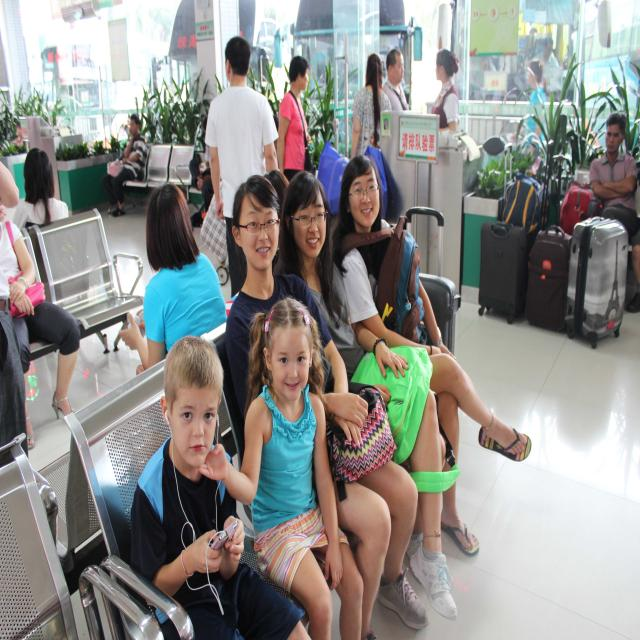body: (225, 172, 430, 640), (271, 166, 462, 625), (333, 156, 531, 560), (199, 291, 367, 640), (129, 333, 312, 640), (117, 180, 230, 378), (23, 138, 219, 248), (204, 34, 280, 298), (470, 24, 581, 164), (0, 140, 21, 469), (588, 111, 639, 244), (276, 54, 315, 184), (349, 52, 393, 163), (107, 114, 147, 217), (196, 193, 229, 298), (12, 177, 69, 230), (432, 49, 462, 134), (381, 48, 411, 110)
